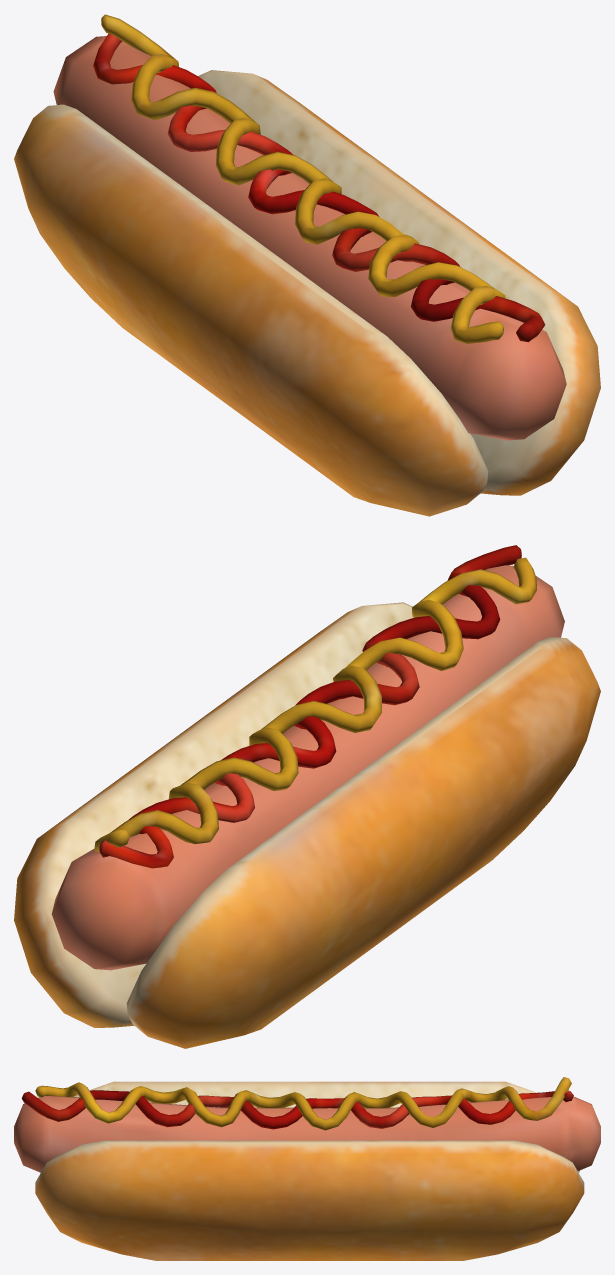
Rendered from hot_dog_ with_ketchup_and_mustard.fbx.
3 views of the same model, one above another, from view 1: azimuth 30°, elevation 25°; view 2: azimuth 150°, elevation 25°; view 3: azimuth 270°, elevation 25° (orthographic). The views are drawn at different scales.
Parts seen in each view (by area): view 1: hot_dog_ with_ketchup_and_mustard; view 2: hot_dog_ with_ketchup_and_mustard; view 3: hot_dog_ with_ketchup_and_mustard.
Part boxes in pixels (x1,y1,x2,y2): hot_dog_ with_ketchup_and_mustard: [14, 14, 600, 516]; hot_dog_ with_ketchup_and_mustard: [14, 545, 600, 1048]; hot_dog_ with_ketchup_and_mustard: [14, 1077, 600, 1260].
Size of the model in its own units: 7.19 by 5.82 by 19.25.
Materials: 1 (1 with a texture image).
